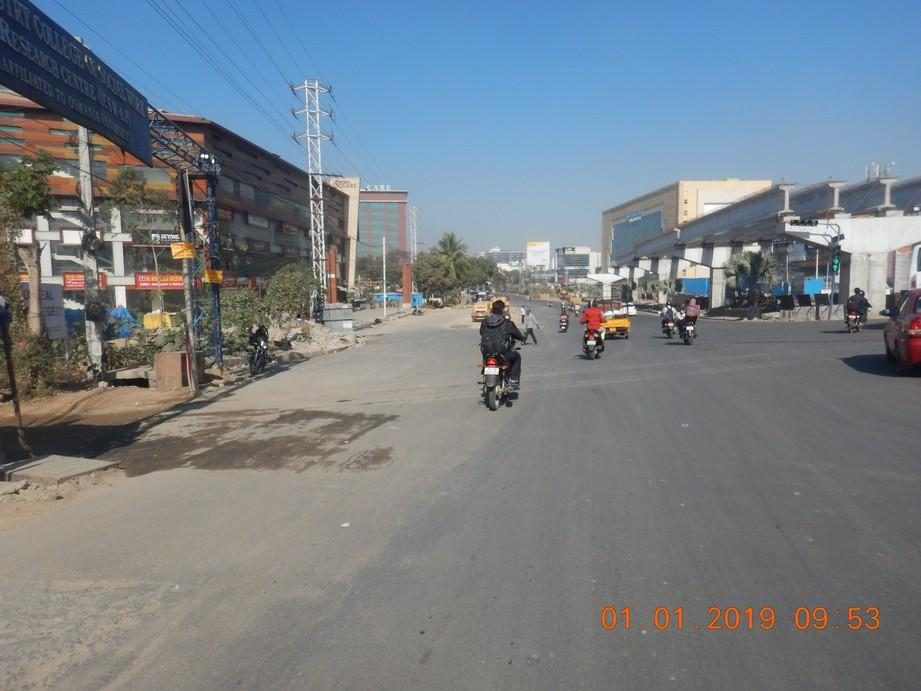plate: (482, 366, 501, 376)
